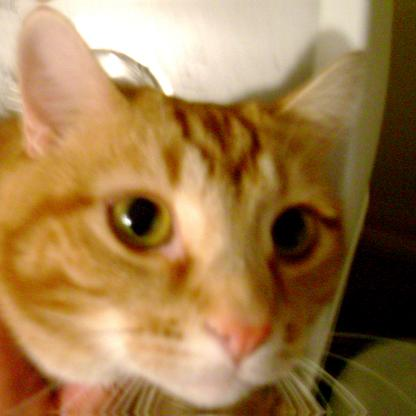Cat: (0, 3, 410, 411)
